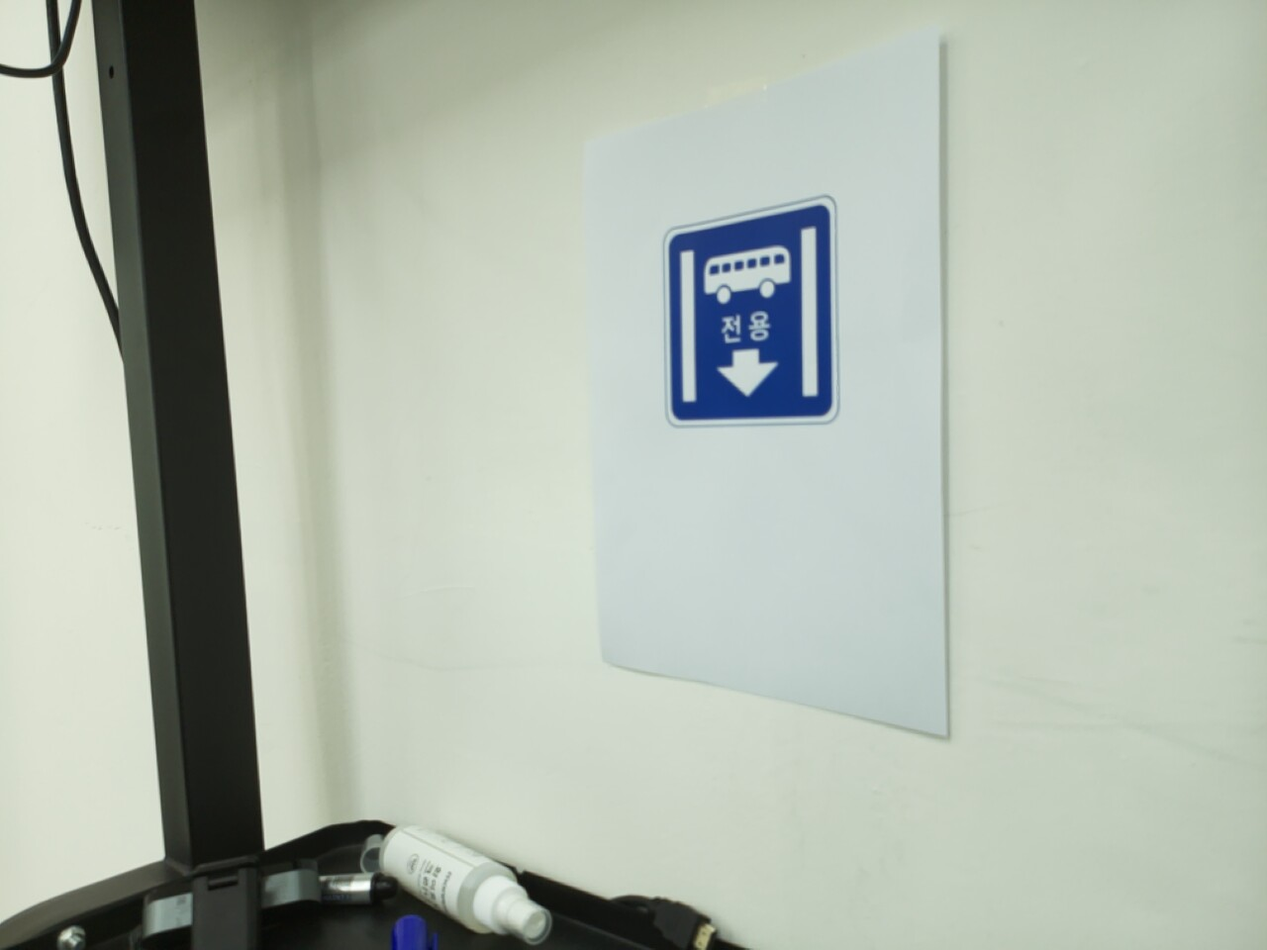bus_only_lane: (661, 197, 839, 428)
